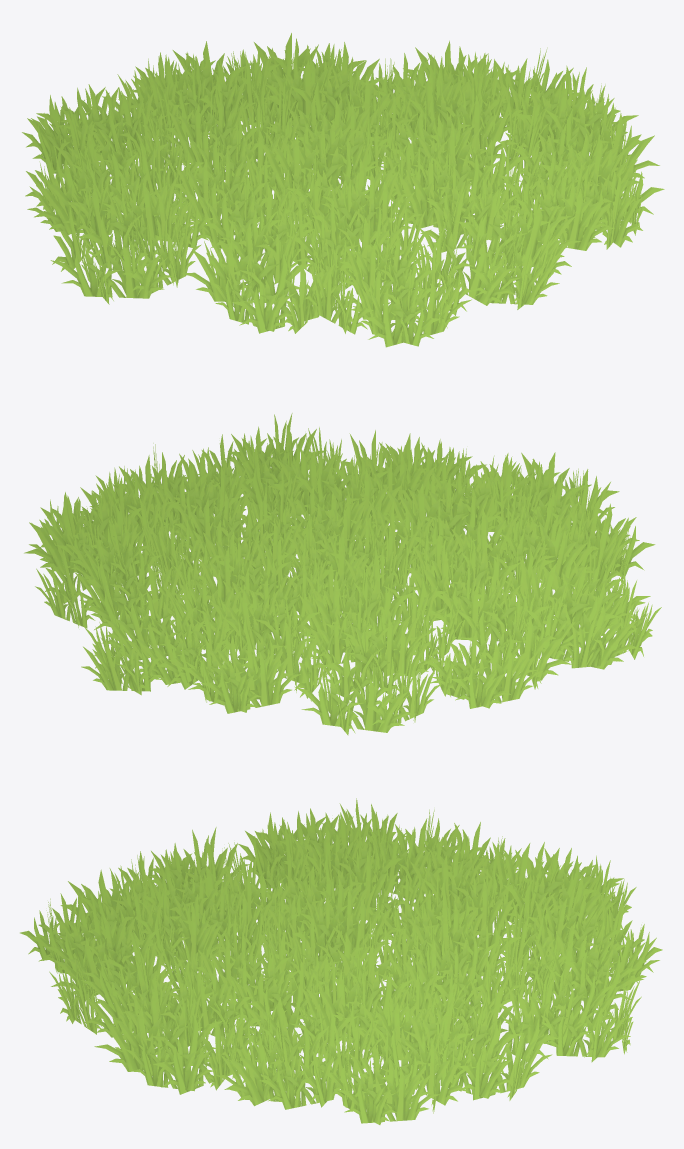
Rendered from SM_Env_Grass_Tall_Clump_05.glb.
The picture shows the model from 3 angles, top to bottom: view 1: azimuth 30°, elevation 25°; view 2: azimuth 150°, elevation 25°; view 3: azimuth 270°, elevation 25°; orthographic projection.
Visible parts, largest first — view 1: SM_Env_Grass_Tall_Clump_05; view 2: SM_Env_Grass_Tall_Clump_05; view 3: SM_Env_Grass_Tall_Clump_05.
Part boxes in pixels (x1,y1,x2,y2): SM_Env_Grass_Tall_Clump_05: (22,33,664,347); SM_Env_Grass_Tall_Clump_05: (24,413,661,735); SM_Env_Grass_Tall_Clump_05: (20,798,662,1124).
Size of the model in its own units: 7.33 by 1.44 by 6.96.
1 material, 1 textured.
